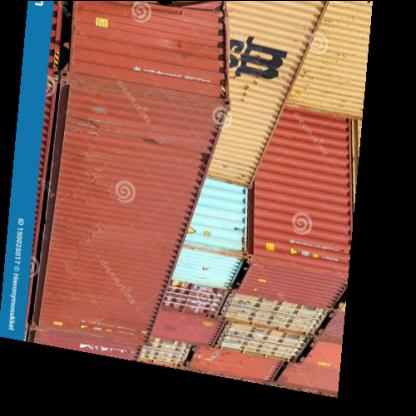Damage: (131, 1, 223, 16)
